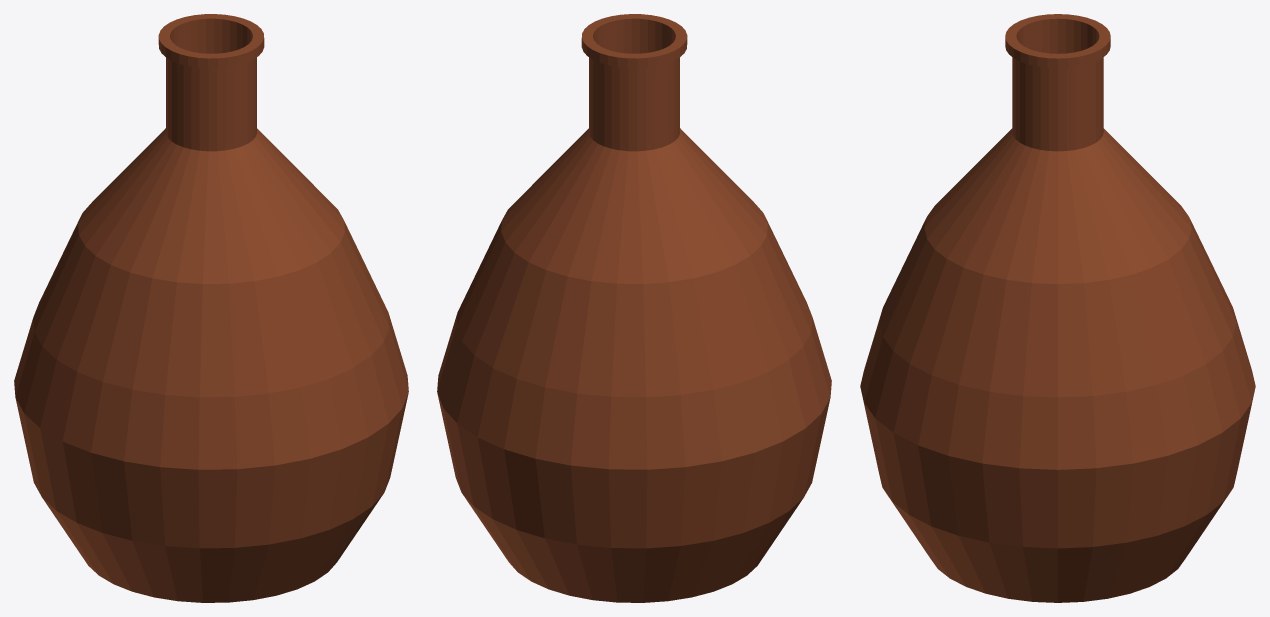
Rendered from pot 4.fbx.
3 renders of one model, left to right at view 1: azimuth 30°, elevation 25°; view 2: azimuth 150°, elevation 25°; view 3: azimuth 270°, elevation 25°, orthographic.
Parts seen in each view (by area): view 1: Cylinder.001; view 2: Cylinder.001; view 3: Cylinder.001.
Part boxes in pixels (x1,y1,x2,y2): Cylinder.001: (14,14,408,602); Cylinder.001: (437,14,831,602); Cylinder.001: (860,14,1255,602).
Bounding box in the file's own units: 107 × 153 × 107.
1 material, 1 textured.
